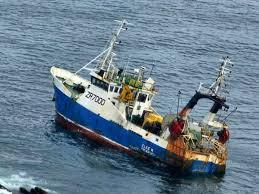Ship: (52, 21, 232, 176)
